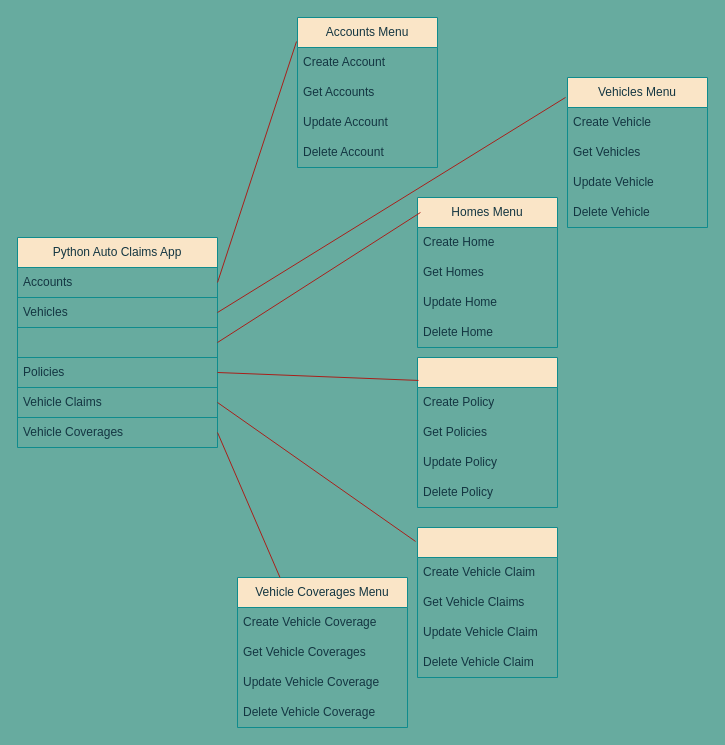
The diagram is 725 pixels wide and 745 high, and some of its shapes have lost their labels. The box of each missing label's shape, as (x1, y1, x2, y2) in pixels:
Homes: (16, 326, 218, 358)
Policies Menu: (416, 356, 558, 508)
Vehicle Claims Menu: (416, 526, 558, 678)
